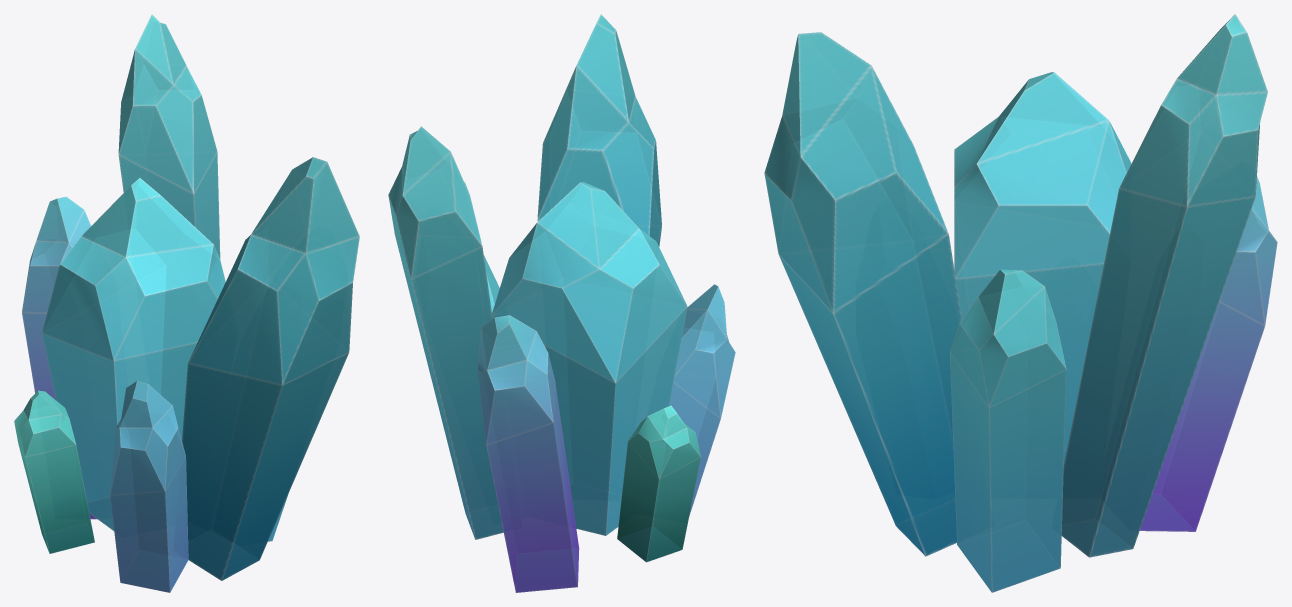
The model's file is CrystalGroup.fbx.
The picture shows the model from 3 angles, left to right: view 1: azimuth 30°, elevation 25°; view 2: azimuth 150°, elevation 25°; view 3: azimuth 270°, elevation 25°; orthographic projection. The views are drawn at different scales.
Visible parts, largest first — view 1: Crystal_Group; view 2: Crystal_Group; view 3: Crystal_Group.
Part boxes in pixels (<box>): Crystal_Group: <box>14,14,359,592</box>; Crystal_Group: <box>388,14,735,592</box>; Crystal_Group: <box>764,14,1277,592</box>.
Bounding box in the file's own units: 4.04 × 5.87 × 4.83.
